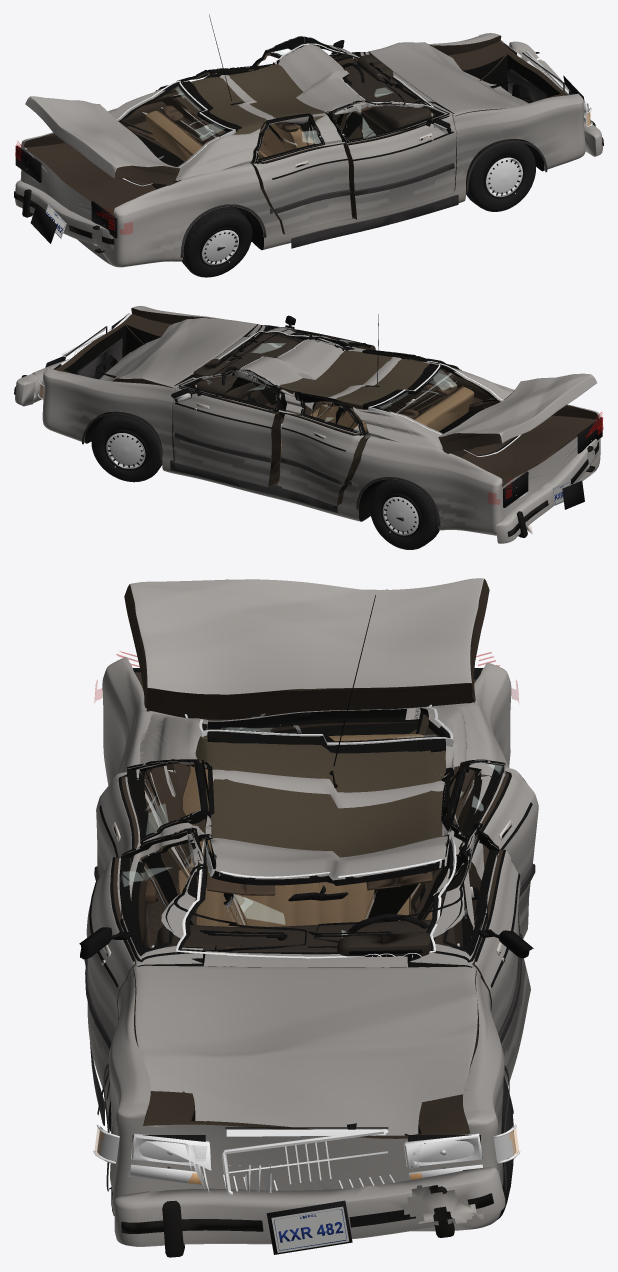
The model's file is sedan87_roll_d1_lod1.glb.
3 renders of one model, top to bottom at view 1: azimuth 30°, elevation 25°; view 2: azimuth 150°, elevation 25°; view 3: azimuth 270°, elevation 25°, orthographic. The views are drawn at different scales.
Parts seen in each view (by area): view 1: Body, Door_FR, Door_RR, Interior, Trunk, Hood, Wheel_FR_mesh, Wheel_RR_mesh, Trim, Ends, Bumper_R, Trim_FR (+6 smaller); view 2: Body, Door_FL, Door_RL, Hood, Trunk, Interior, Wheel_FL_mesh, Wheel_RL_mesh, Bumper_R, Trim, Ends, Glass (+7 smaller); view 3: Body, Hood, Trunk, Bumper_F, Interior, Ends, Door_FL, Door_FR, Glass, Door_RL, Door_RR, Trim_FR (+4 smaller).
Boxes of the visible parts, x1,y1,x2,y2 form: Body: (20,33,585,267); Door_FR: (328,102,456,219); Door_RR: (251,114,352,234); Interior: (145,54,434,161); Trunk: (25,96,180,185); Hood: (368,42,528,116); Wheel_FR_mesh: (466,139,535,211); Wheel_RR_mesh: (182,206,252,277); Trim: (180,14,547,257); Ends: (15,34,592,243); Bumper_R: (14,180,114,253); Trim_FR: (331,82,454,195); Body: (42,306,600,535); Door_FL: (172,370,281,487); Door_RL: (277,391,366,505); Hood: (99,318,259,388); Trunk: (438,373,597,453); Interior: (193,333,474,456); Wheel_FL_mesh: (91,411,162,482); Wheel_RL_mesh: (370,479,439,549); Bumper_R: (496,439,598,543); Trim: (82,314,440,526); Ends: (37,313,602,509); Glass: (194,331,521,456); Body: (102,657,511,1231); Hood: (133,965,478,1135); Trunk: (124,578,489,719); Bumper_F: (114,1167,505,1257); Interior: (154,734,446,967); Ends: (93,668,520,1254); Door_FL: (410,823,530,1086); Door_FR: (86,827,203,1099); Glass: (175,704,456,958); Door_RL: (441,759,538,946); Door_RR: (96,759,209,945); Trim_FR: (79,828,306,1049).
Size of the model in its own units: 5.06 by 1.86 by 1.92.
Materials: 33 (5 with a texture image).
